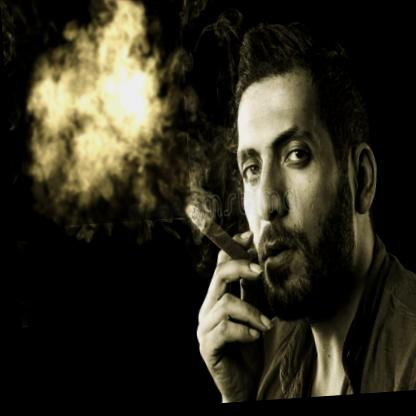smoke: (12, 0, 189, 228)
